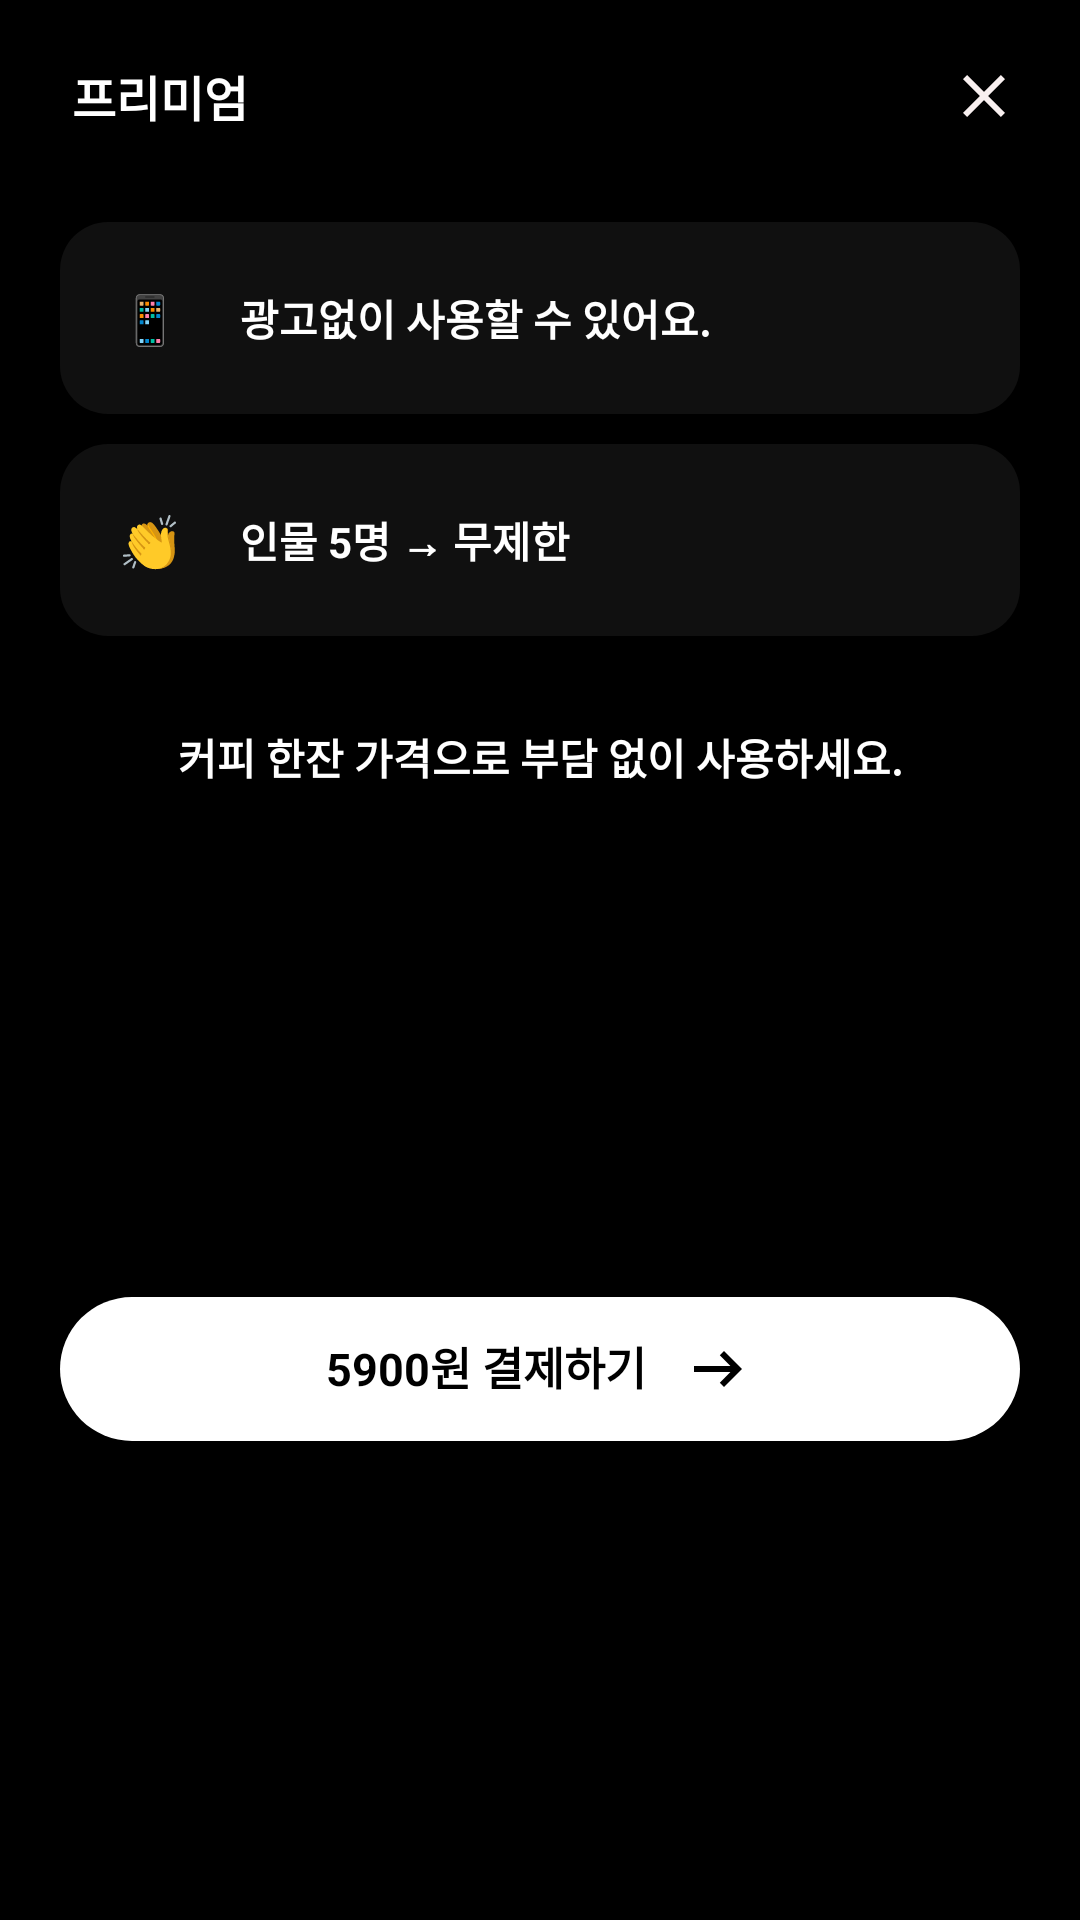

Point at icon controls on the screen. Image size 1080px x 1920px, points as (x=x, y=y).
arrow: (x=718, y=1369)
close: (x=984, y=96)
